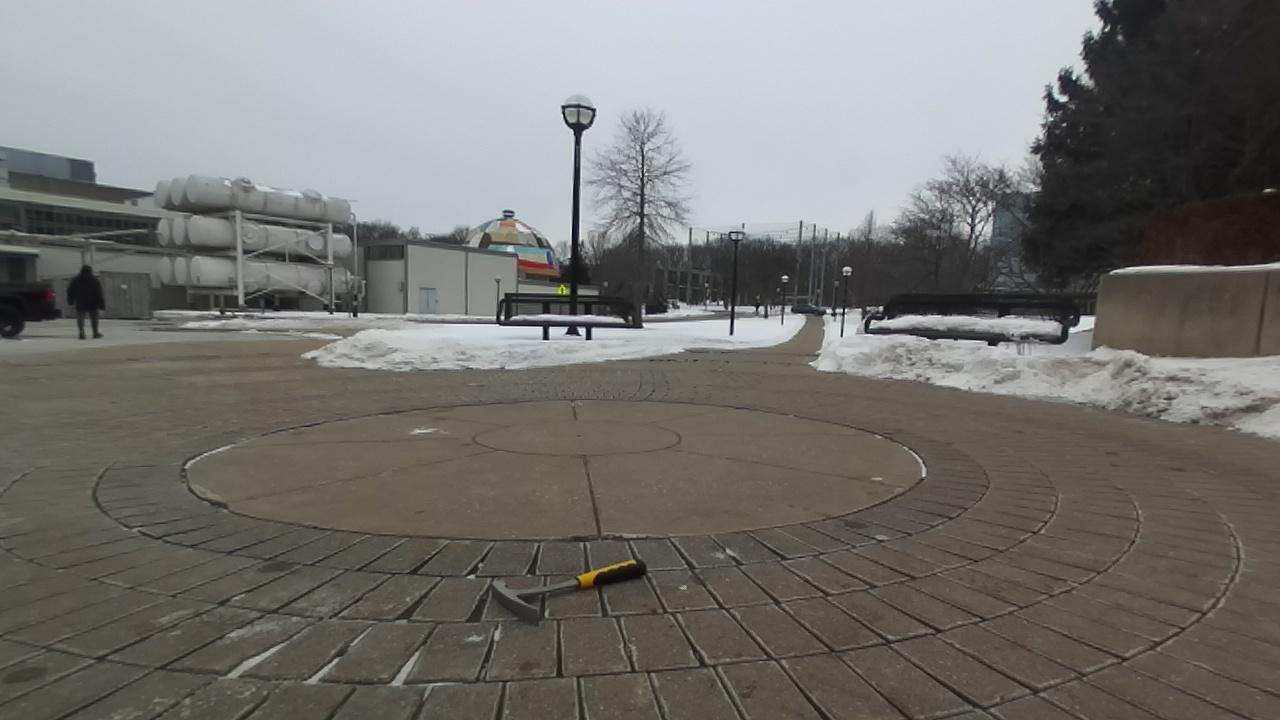pick: (491, 559, 646, 624)
